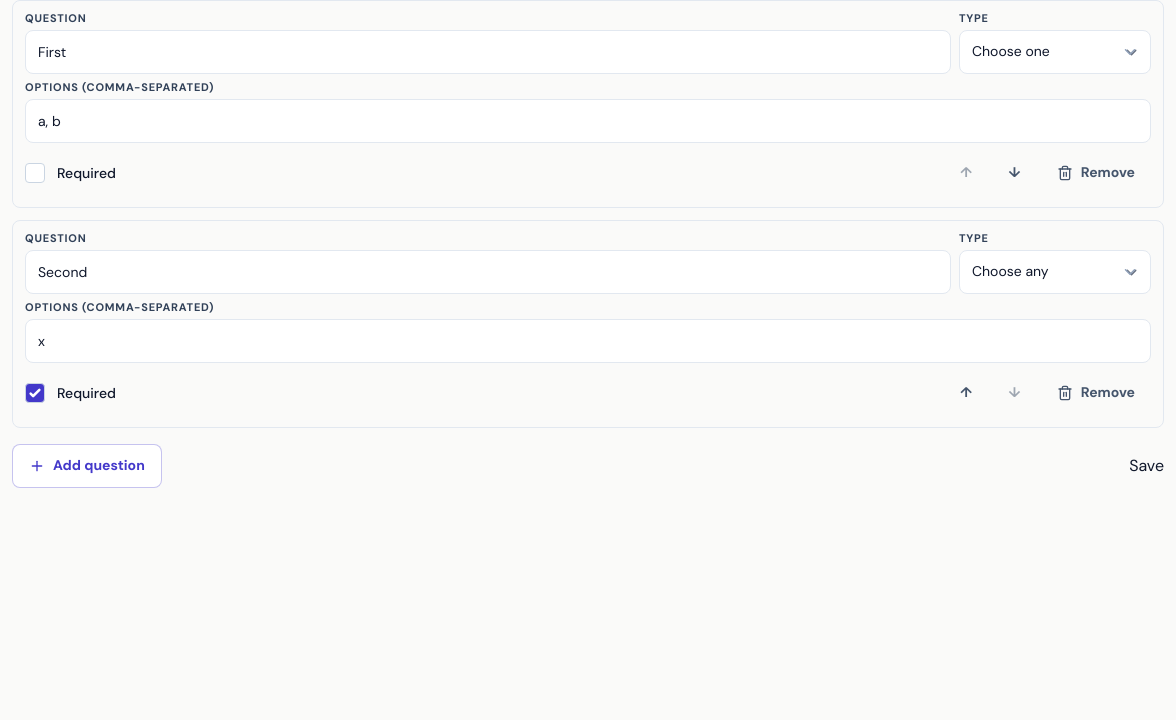
it: QuestionEditor › moves and removes questions, and each question keeps its own options
The width and height of the screenshot is (1176, 720).
Click the button named "Move question 2 up": coordinates (966, 393) [944,371,988,415]
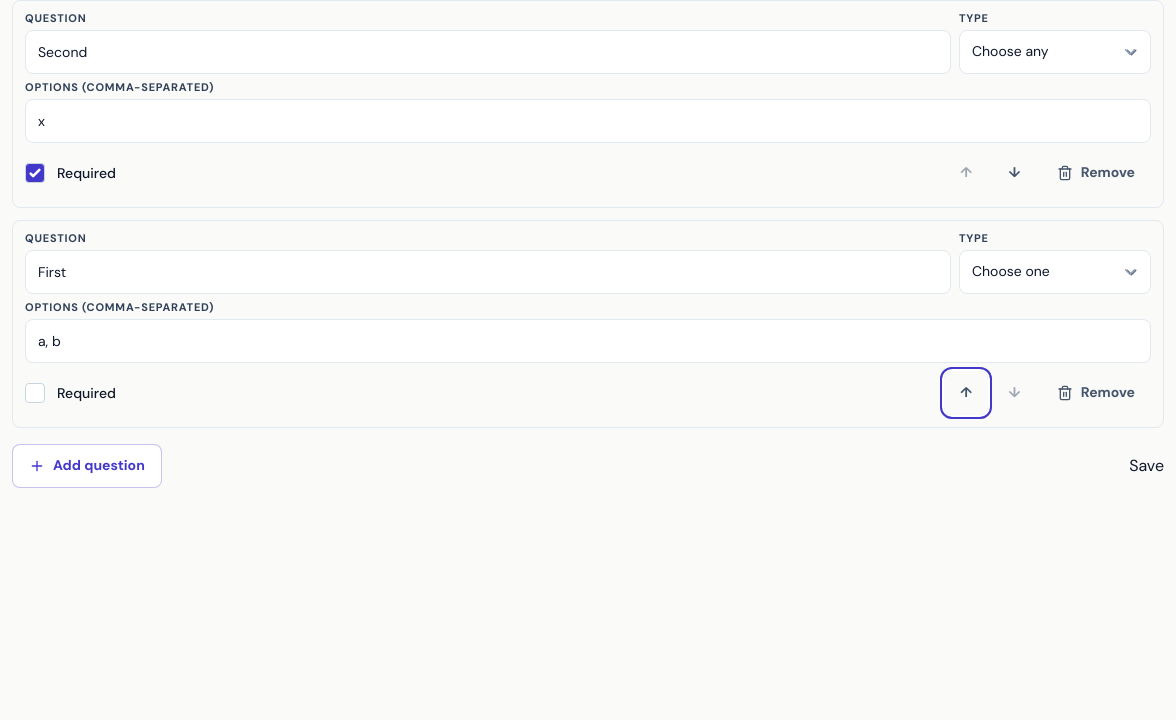
Check: the 1st field labelled "Options (comma-separated)" holds "x", box [25,99,1151,143]
Click the button with aria-label "Remove question 1": coordinates (1096, 173) [1041,151,1151,195]
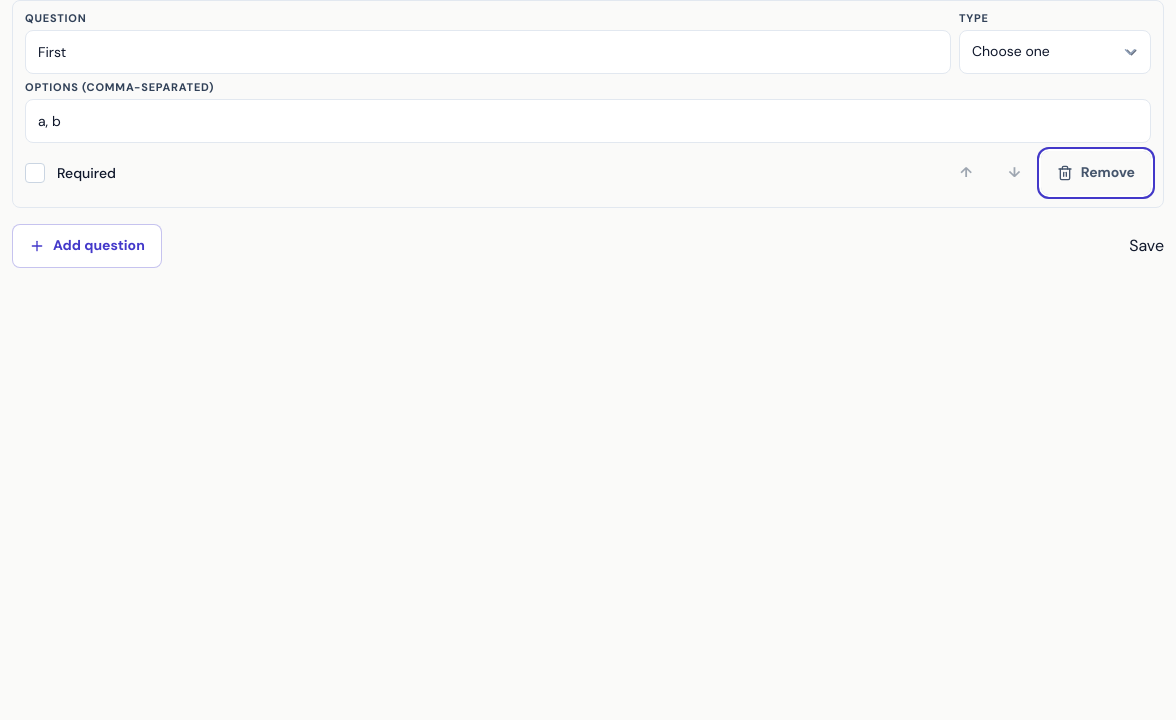
Check: the button named "Move question 1 up" is disabled, box [944,151,988,195]
Check: the field labelled "Options (comma-separated)" holds "a, b", box [25,99,1151,143]
